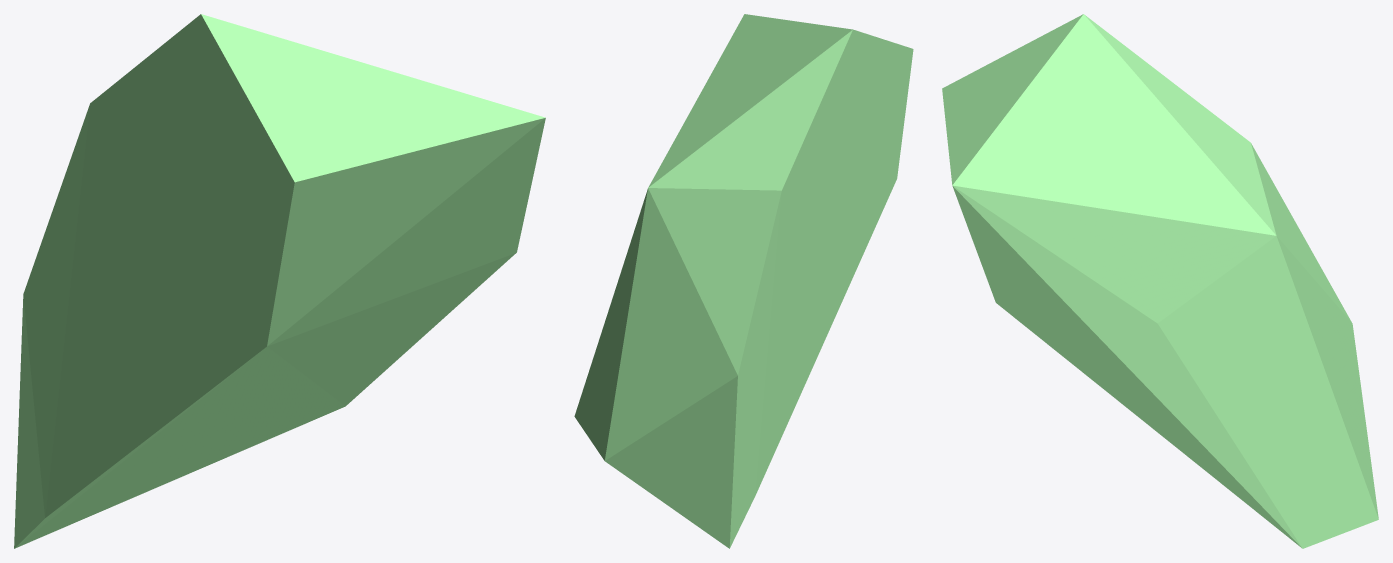
Rendered from xarm7_with_gripper_LR4_R560_link7_respondable_coll_26.dae.
The picture shows the model from 3 angles, left to right: view 1: azimuth 30°, elevation 25°; view 2: azimuth 150°, elevation 25°; view 3: azimuth 270°, elevation 25°; orthographic projection. The views are drawn at different scales.
Parts seen in each view (by area): view 1: Node_000001B88F9E0D70; view 2: Node_000001B88F9E0D70; view 3: Node_000001B88F9E0D70.
Boxes of the visible parts, <box> form: Node_000001B88F9E0D70: <box>14,14,545,548</box>; Node_000001B88F9E0D70: <box>574,14,913,548</box>; Node_000001B88F9E0D70: <box>942,14,1378,548</box>.
Bounding box in the file's own units: 0.00903 × 0.02 × 0.0156.
